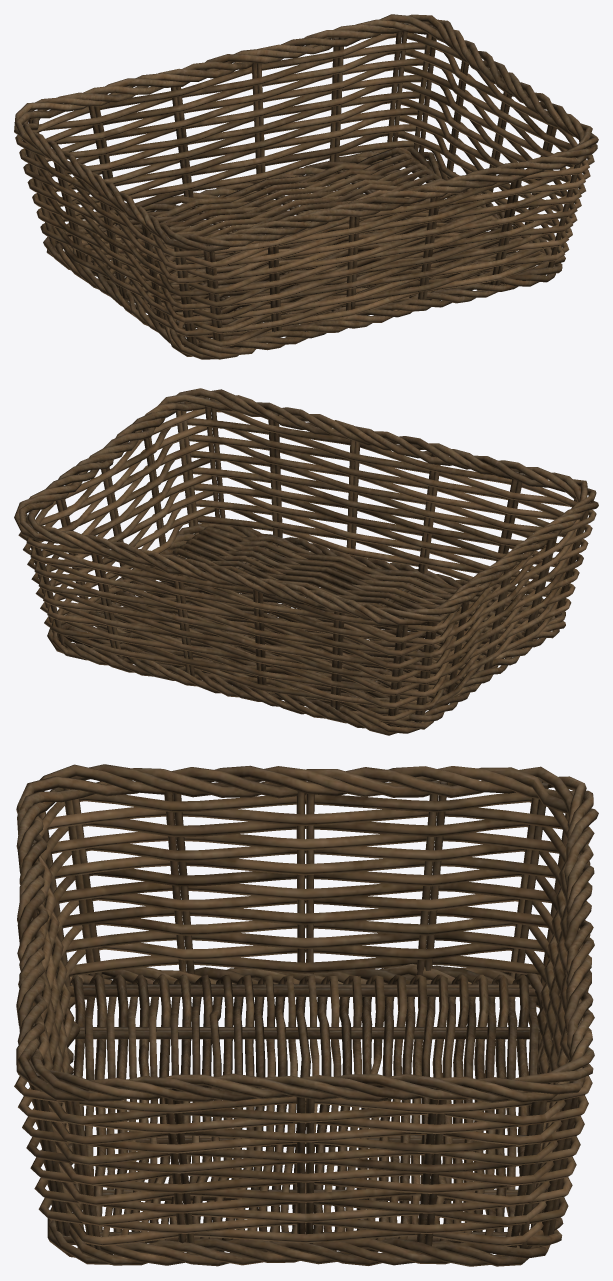
Rendered from wicker_basket_01.glb.
3 renders of one model, top to bottom at view 1: azimuth 30°, elevation 25°; view 2: azimuth 150°, elevation 25°; view 3: azimuth 270°, elevation 25°, orthographic. The views are drawn at different scales.
Visible parts, largest first — view 1: wicker_basket_01; view 2: wicker_basket_01; view 3: wicker_basket_01.
Boxes of the visible parts, left/top/right/bottom form: wicker_basket_01: left=14, top=14, right=598, bottom=359; wicker_basket_01: left=14, top=388, right=598, bottom=735; wicker_basket_01: left=14, top=764, right=598, bottom=1266.
Bounding box in the file's own units: 0.3832 × 0.1174 × 0.295.
1 material, 1 textured.
